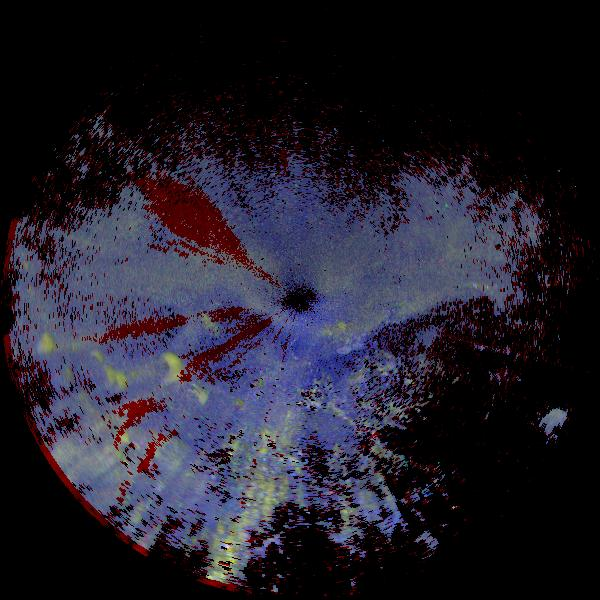roost: (124, 333, 199, 408), (35, 351, 104, 420)
